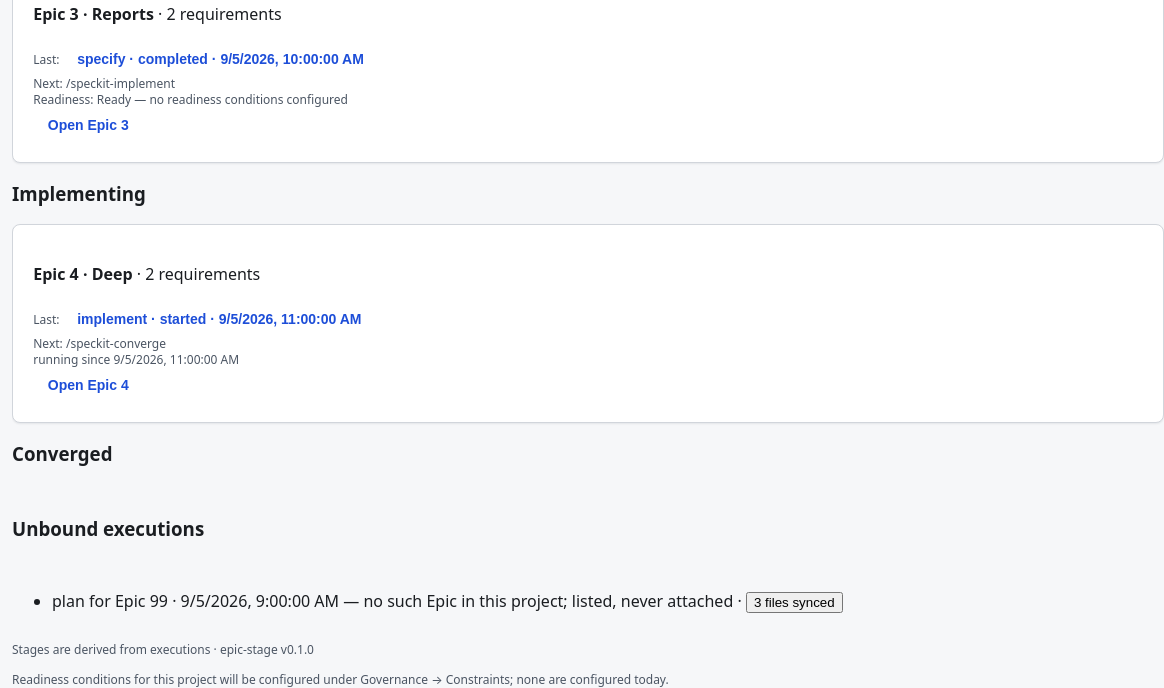
T1682 · the unbound group names the files each sync stored › names the count and opens the list of paths
(page scrolled)
Click the button "3 files synced" at (794, 602), box [746,592,843,613]
(page scrolled)
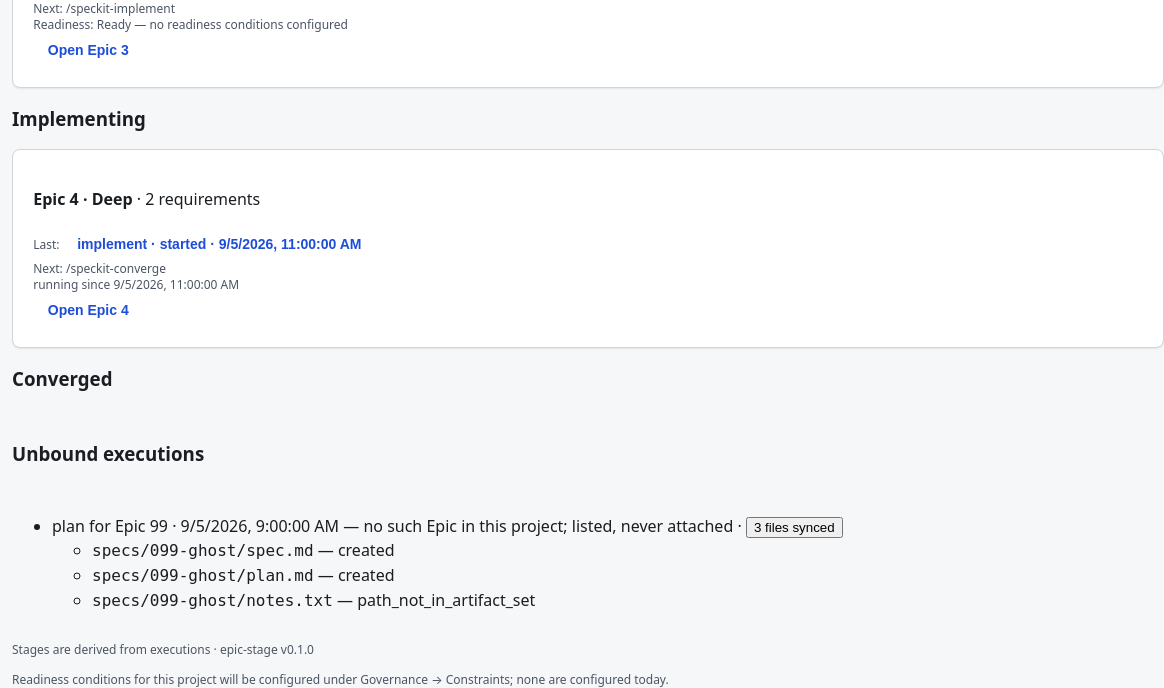
Now the text "specs/099-ghost/spec.md" is shown, box [92,541,314,560]
Now the text "specs/099-ghost/notes.txt" is shown, box [92,591,333,610]
Now the element "Unbound executions" shows "path_not_in_artifact_set", box [357,589,535,611]
